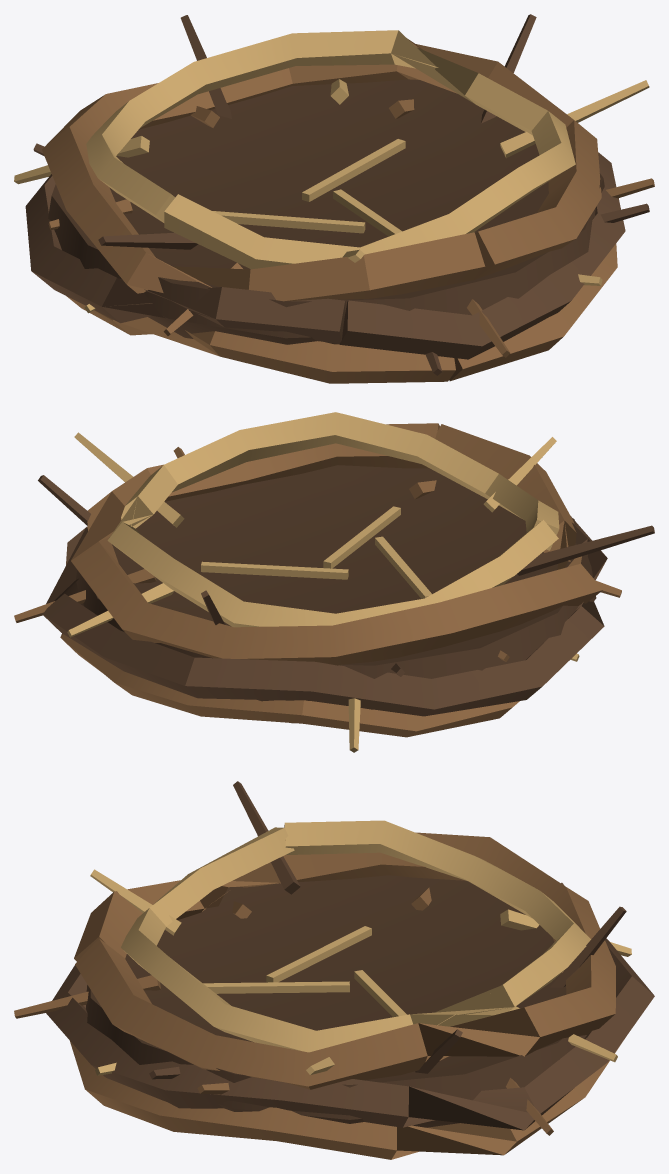
Rendered from record-nest.glb.
The picture shows the model from 3 angles, top to bottom: view 1: azimuth 30°, elevation 25°; view 2: azimuth 150°, elevation 25°; view 3: azimuth 270°, elevation 25°; orthographic projection. The views are drawn at different scales.
Visible parts, largest first — view 1: record-nest; view 2: record-nest; view 3: record-nest.
Boxes of the visible parts, x1=… form: record-nest: x1=14, y1=14, x2=654, y2=383; record-nest: x1=14, y1=412, x2=654, y2=752; record-nest: x1=14, y1=781, x2=654, y2=1159.
Size of the model in its own units: 2.55 by 0.746 by 2.51.
